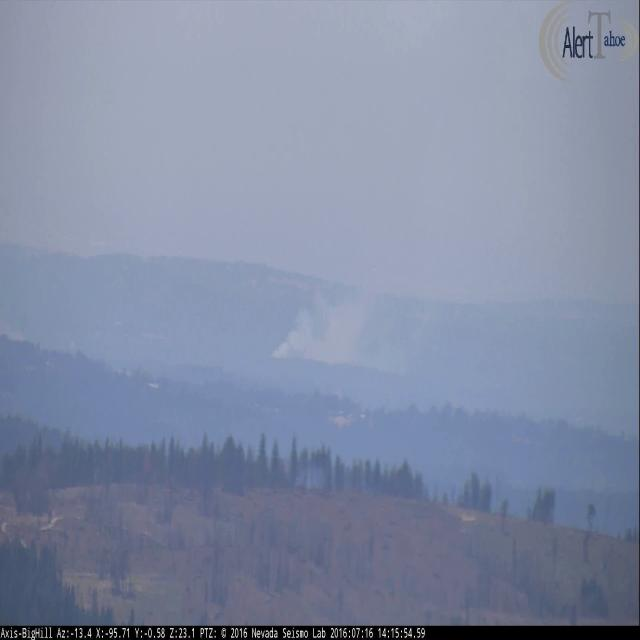smoke: (271, 278, 408, 374)
